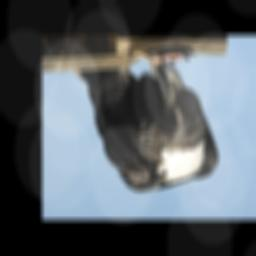Crow: (72, 48, 221, 195)
